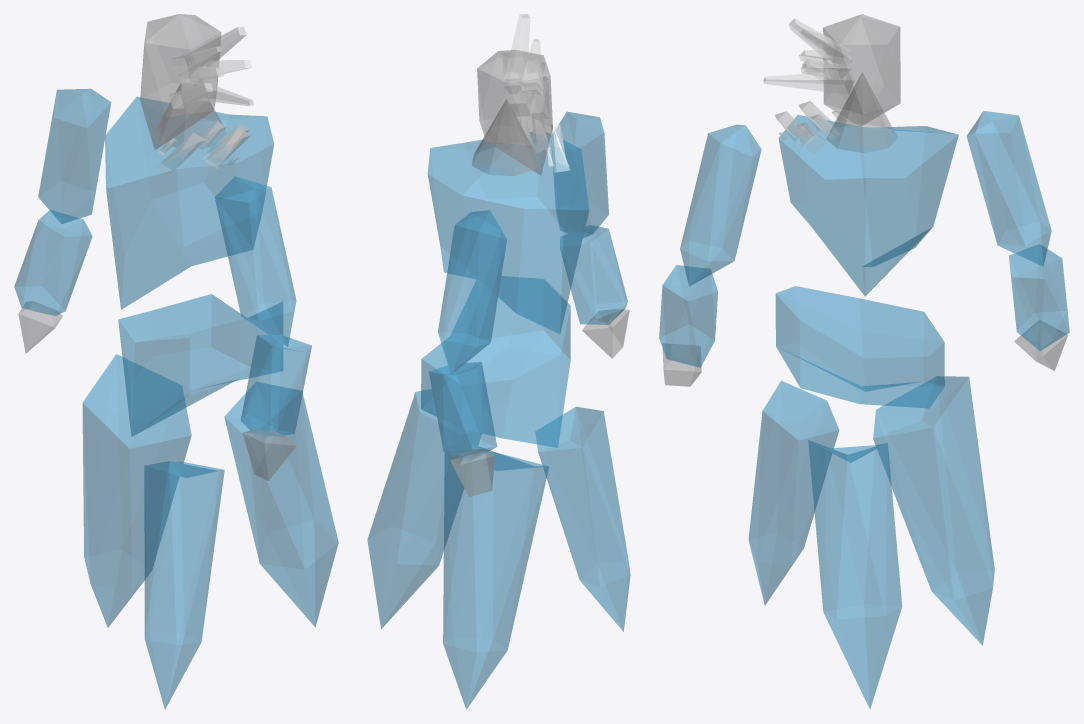
The model's file is ghostIdle35.obj.
The picture shows the model from 3 angles, left to right: view 1: azimuth 30°, elevation 25°; view 2: azimuth 150°, elevation 25°; view 3: azimuth 270°, elevation 25°; orthographic projection. The views are drawn at different scales.
Parts seen in each view (by area): view 1: Cube.001_Cube.001, Icosphere.005, Icosphere.004, Cube_Cube.002, Icosphere.003, Icosphere.005_Icosphere.001, Icosphere.003_Icosphere.001, Icosphere.007_Icosphere.001, Icosphere.006_Icosphere.001, Icosphere.008_Icosphere.001, Cone_Cone.002, Cube.002_Cube.001 (+8 smaller); view 2: Cube.001_Cube.001, Cube_Cube.002, Icosphere.005, Icosphere.004, Icosphere.003, Icosphere.007_Icosphere.001, Icosphere.003_Icosphere.001, Icosphere.005_Icosphere.001, Icosphere.008_Icosphere.001, Icosphere.006_Icosphere.001, Cone_Cone.002, Cube.003_Cube.001 (+6 smaller); view 3: Cube.001_Cube.001, Icosphere.005, Icosphere.004, Cube_Cube.002, Icosphere.003, Icosphere.005_Icosphere.001, Icosphere.007_Icosphere.001, Icosphere.003_Icosphere.001, Icosphere.006_Icosphere.001, Icosphere.008_Icosphere.001, Cone_Cone.002, Cube.003_Cube.001 (+4 smaller).
Boxes of the visible parts, left/top/right/bottom form: Cube.001_Cube.001: left=105, top=96, right=273, bottom=309; Icosphere.005: left=82, top=354, right=191, bottom=627; Icosphere.004: left=224, top=382, right=338, bottom=627; Cube_Cube.002: left=118, top=294, right=282, bottom=436; Icosphere.003: left=144, top=461, right=224, bottom=708; Icosphere.005_Icosphere.001: left=214, top=176, right=296, bottom=346; Icosphere.003_Icosphere.001: left=140, top=14, right=221, bottom=149; Icosphere.007_Icosphere.001: left=38, top=88, right=111, bottom=223; Icosphere.006_Icosphere.001: left=240, top=335, right=311, bottom=438; Icosphere.008_Icosphere.001: left=14, top=210, right=92, bottom=315; Cone_Cone.002: left=155, top=83, right=226, bottom=147; Cube.002_Cube.001: left=242, top=429, right=296, bottom=480; Cube.001_Cube.001: left=427, top=132, right=589, bottom=333; Cube_Cube.002: left=421, top=276, right=570, bottom=447; Icosphere.005: left=443, top=444, right=548, bottom=709; Icosphere.004: left=367, top=389, right=481, bottom=629; Icosphere.003: left=535, top=406, right=630, bottom=631; Icosphere.007_Icosphere.001: left=438, top=210, right=506, bottom=374; Icosphere.003_Icosphere.001: left=477, top=50, right=552, bottom=175; Icosphere.005_Icosphere.001: left=552, top=111, right=608, bottom=238; Icosphere.008_Icosphere.001: left=429, top=362, right=497, bottom=462; Icosphere.006_Icosphere.001: left=560, top=225, right=627, bottom=324; Cone_Cone.002: left=472, top=99, right=536, bottom=176; Cube.003_Cube.001: left=450, top=448, right=495, bottom=496; Cube.001_Cube.001: left=778, top=115, right=958, bottom=296; Icosphere.005: left=873, top=376, right=994, bottom=645; Icosphere.004: left=808, top=440, right=902, bottom=709; Cube_Cube.002: left=775, top=286, right=944, bottom=408; Icosphere.003: left=748, top=381, right=839, bottom=605; Icosphere.005_Icosphere.001: left=680, top=124, right=761, bottom=286; Icosphere.007_Icosphere.001: left=966, top=111, right=1051, bottom=266; Icosphere.003_Icosphere.001: left=823, top=14, right=900, bottom=125; Icosphere.006_Icosphere.001: left=659, top=265, right=717, bottom=367; Icosphere.008_Icosphere.001: left=1009, top=244, right=1069, bottom=350; Cone_Cone.002: left=826, top=72, right=897, bottom=152; Cube.003_Cube.001: left=1014, top=320, right=1067, bottom=370.
Bounding box in the file's own units: 16.98 × 47.81 × 27.69.
